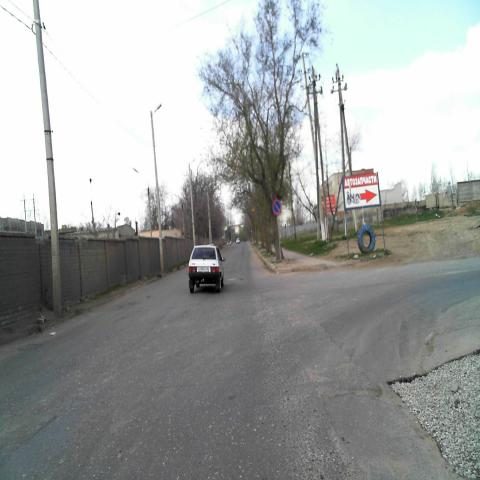3_28: (272, 198, 282, 214)
